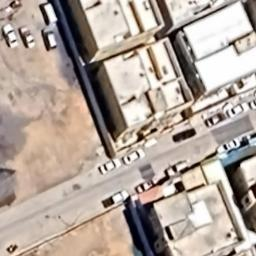SUV: (163, 159, 194, 177), (41, 27, 59, 53)
pickup: (102, 188, 130, 208)
sedan: (214, 137, 242, 157), (98, 156, 124, 176), (18, 26, 39, 50), (1, 22, 20, 48), (121, 148, 147, 166), (134, 176, 160, 194), (202, 112, 228, 130), (225, 100, 251, 118)
unknown: (169, 126, 197, 143)
